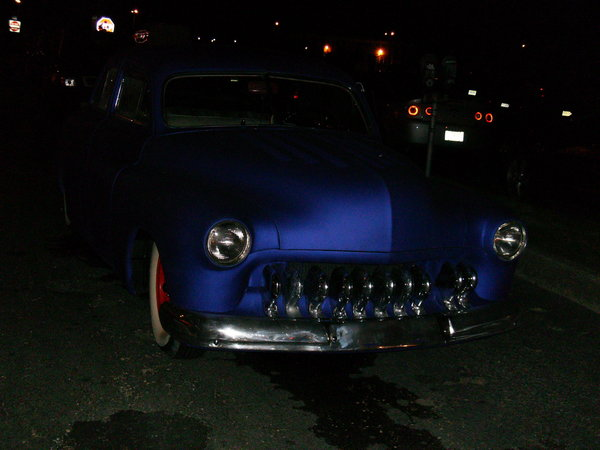car: (51, 43, 537, 384)
